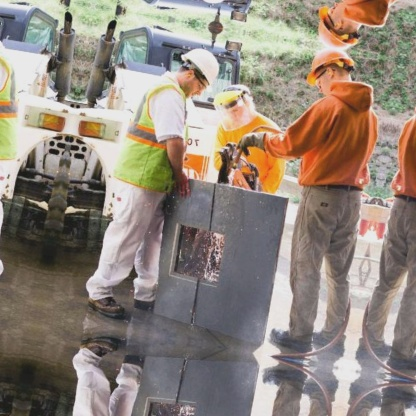vest: (107, 63, 201, 197)
white: (174, 43, 228, 87)
